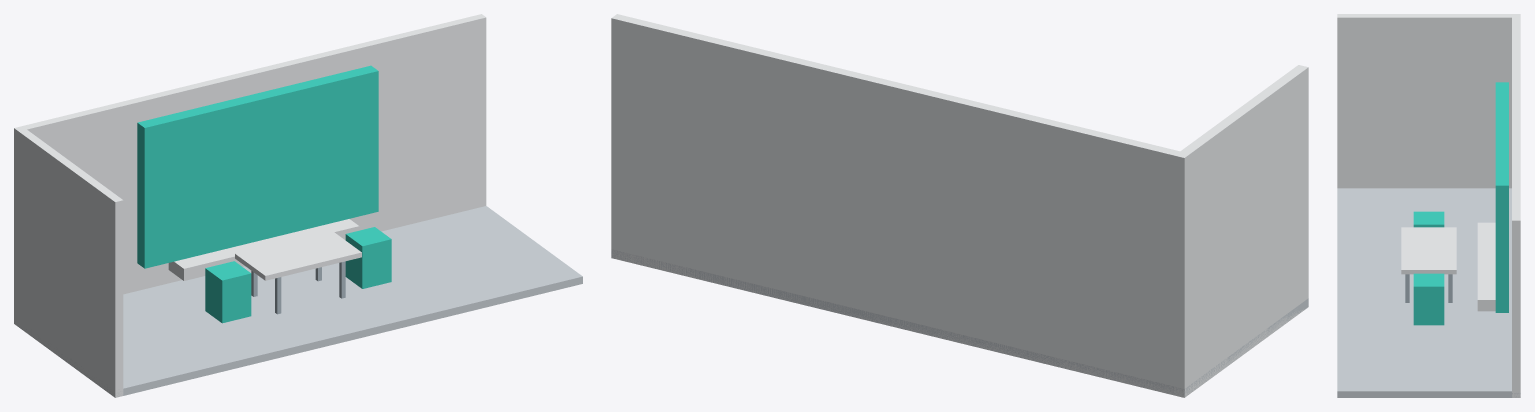
The picture shows the model from 3 angles, left to right: view 1: azimuth 30°, elevation 25°; view 2: azimuth 150°, elevation 25°; view 3: azimuth 270°, elevation 25°; orthographic projection. The views are drawn at different scales.
Parts seen in each view (by area): view 1: Exhibition Booth Concept; view 2: Exhibition Booth Concept; view 3: Exhibition Booth Concept.
Boxes of the visible parts, x1,y1,x2,y2 form: Exhibition Booth Concept: (14,14,582,397); Exhibition Booth Concept: (611,14,1308,397); Exhibition Booth Concept: (1337,14,1520,397).
Bounding box in the file's own units: 8 × 3.2 × 3.
